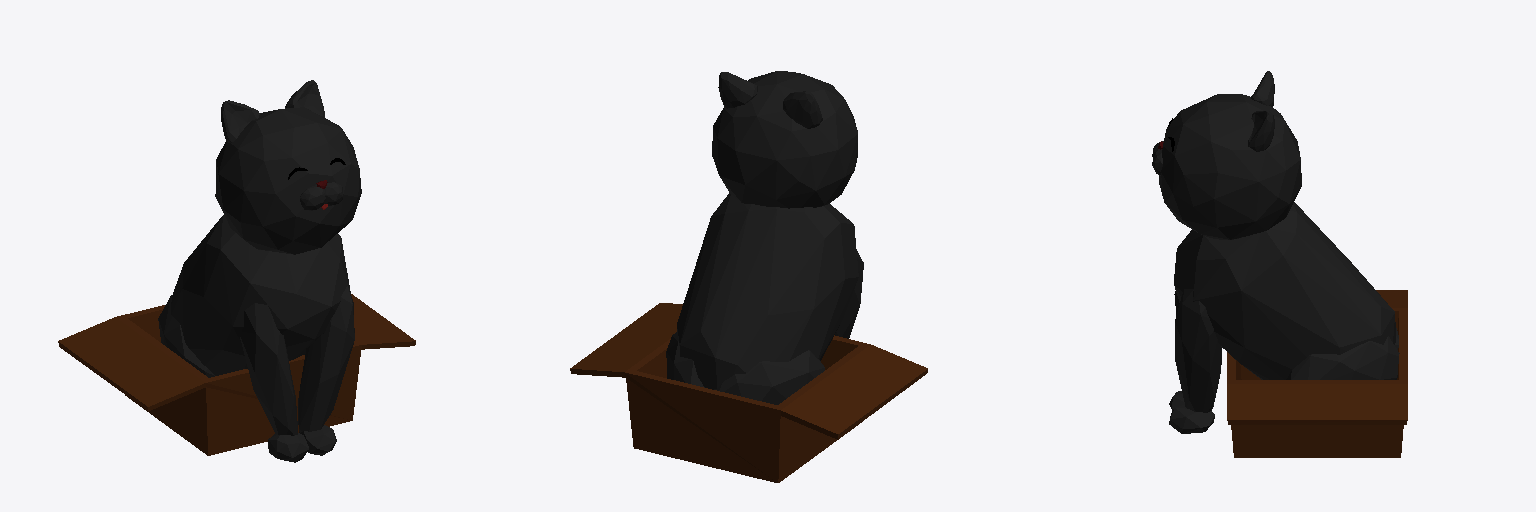
Rendered from cat.obj.
3 views of the same model, side by side, from view 1: azimuth 30°, elevation 25°; view 2: azimuth 150°, elevation 25°; view 3: azimuth 270°, elevation 25° (orthographic).
Parts seen in each view (by area): view 1: box, body, head, hands, ears, brushes, legs, mouth; view 2: box, body, head, legs, ears, hands; view 3: body, head, box, hands, legs, ears, brushes.
Part boxes in pixels (x1,y1,x2,y2): box: (58, 294, 415, 455); body: (171, 215, 350, 375); head: (215, 107, 361, 254); hands: (240, 286, 354, 435); ears: (221, 80, 324, 142); brushes: (268, 425, 336, 462); legs: (158, 295, 214, 377); mouth: (300, 182, 343, 210); box: (570, 303, 927, 482); body: (677, 193, 858, 389); head: (712, 71, 857, 208); legs: (666, 332, 824, 404); ears: (718, 72, 822, 128); hands: (835, 249, 863, 338); body: (1174, 202, 1395, 379); head: (1159, 94, 1301, 239); box: (1227, 290, 1407, 457); hands: (1174, 289, 1221, 412); legs: (1286, 328, 1399, 379); ears: (1248, 71, 1274, 151); brushes: (1169, 391, 1214, 433).
Bounding box in the file's own units: 3.28 × 3.91 × 2.7.